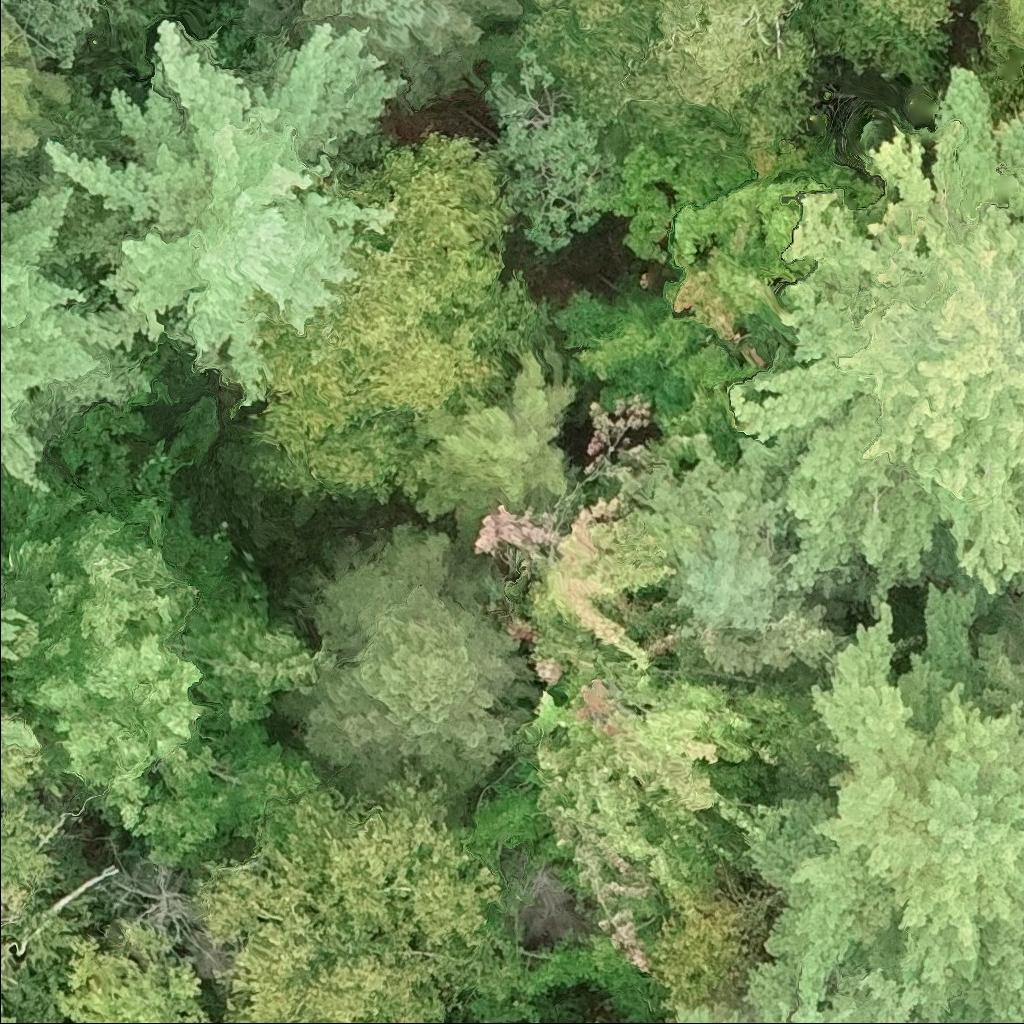crown: (729, 61, 1023, 632), (0, 433, 342, 885), (43, 18, 408, 407), (721, 582, 1023, 1023), (244, 130, 551, 507), (514, 652, 839, 978), (192, 755, 523, 1023), (274, 518, 541, 824), (625, 431, 849, 683), (522, 0, 818, 189), (659, 142, 895, 369), (0, 182, 158, 498), (472, 494, 681, 690), (394, 333, 578, 550), (549, 284, 768, 459), (238, 0, 529, 105), (672, 933, 919, 1023), (647, 865, 780, 1016), (50, 916, 214, 1023), (0, 746, 64, 995), (787, 0, 967, 88), (0, 1, 84, 166), (0, 0, 102, 74), (964, 0, 1023, 119), (970, 592, 1023, 712), (0, 547, 39, 661), (0, 713, 41, 755), (0, 1000, 35, 1023), (0, 188, 16, 214), (929, 1017, 956, 1023)
